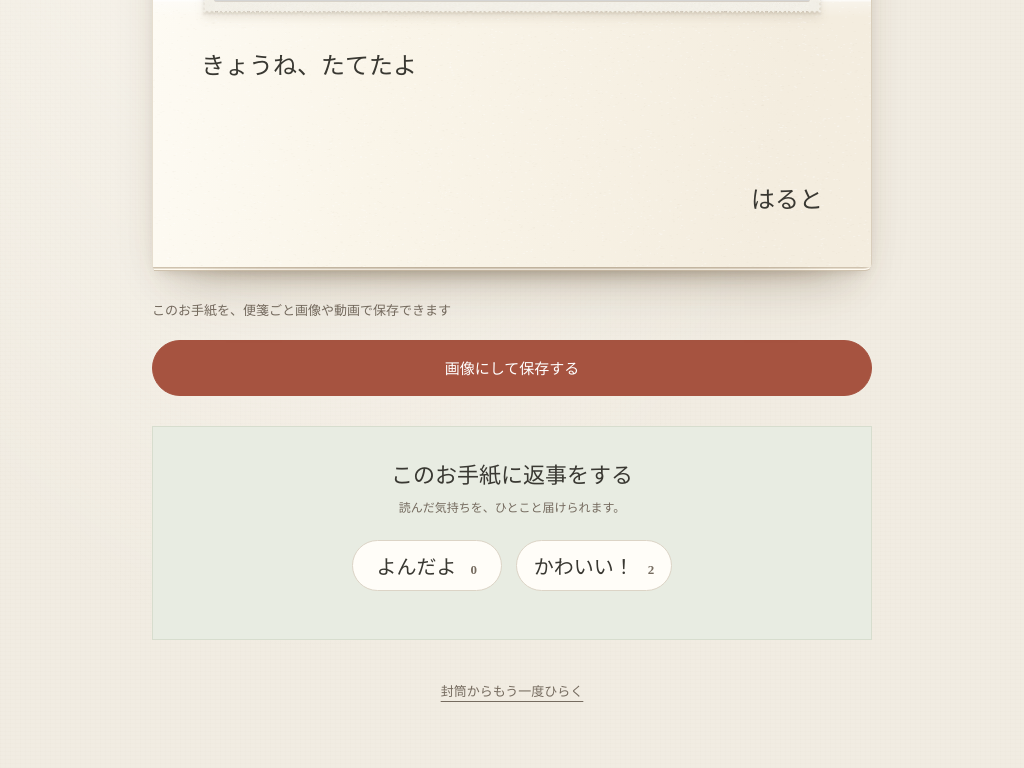
Test: LetterPage › keeps the letter visible when adding a stamp fails
(page scrolled)
Click the button "よんだよ0". click: {"x": 427, "y": 566}
box: [352,540,502,591]
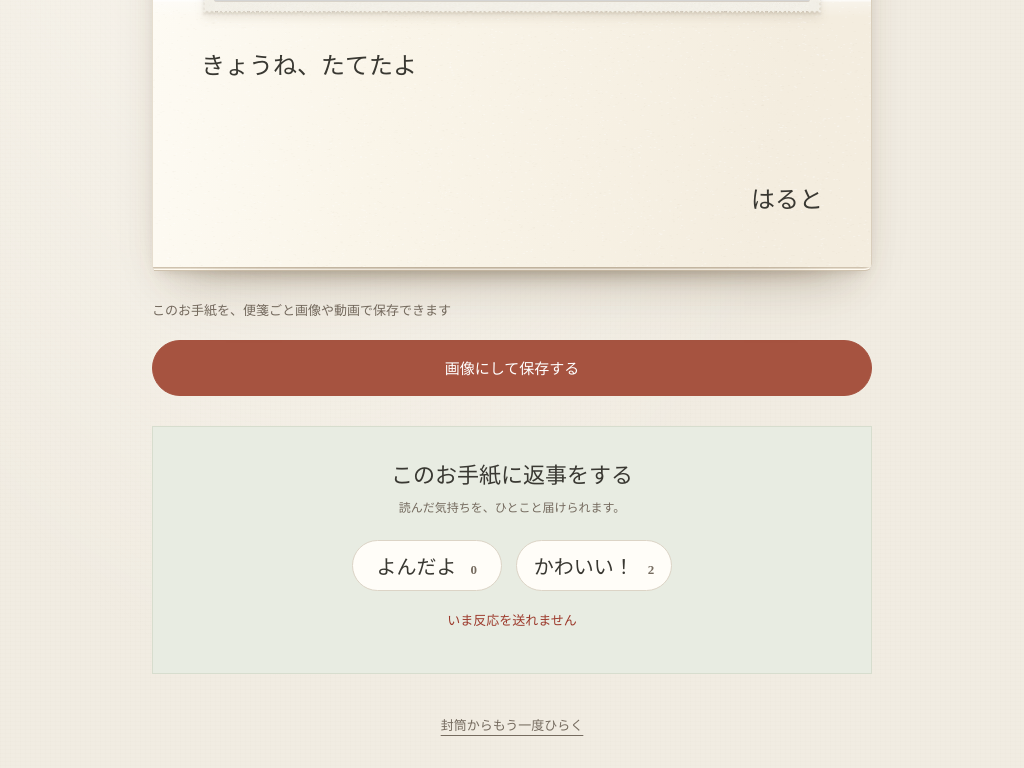
Expected: the text "きょうね、たてたよ" is shown, [201,53,417,79]
Expected: the text "いま反応を送れません" is shown, [447,612,577,628]
